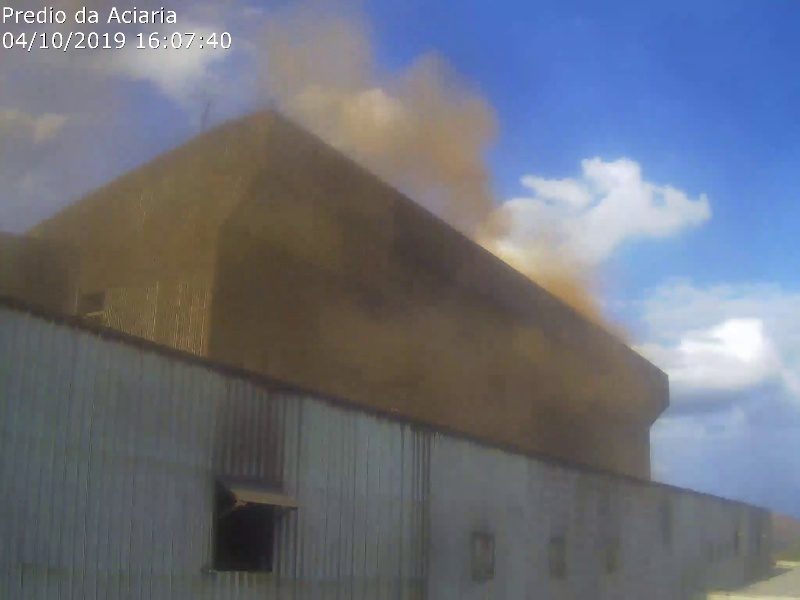bom: (540, 8, 800, 246), (683, 251, 800, 467)
pessimo: (1, 5, 604, 447), (281, 30, 525, 237)
